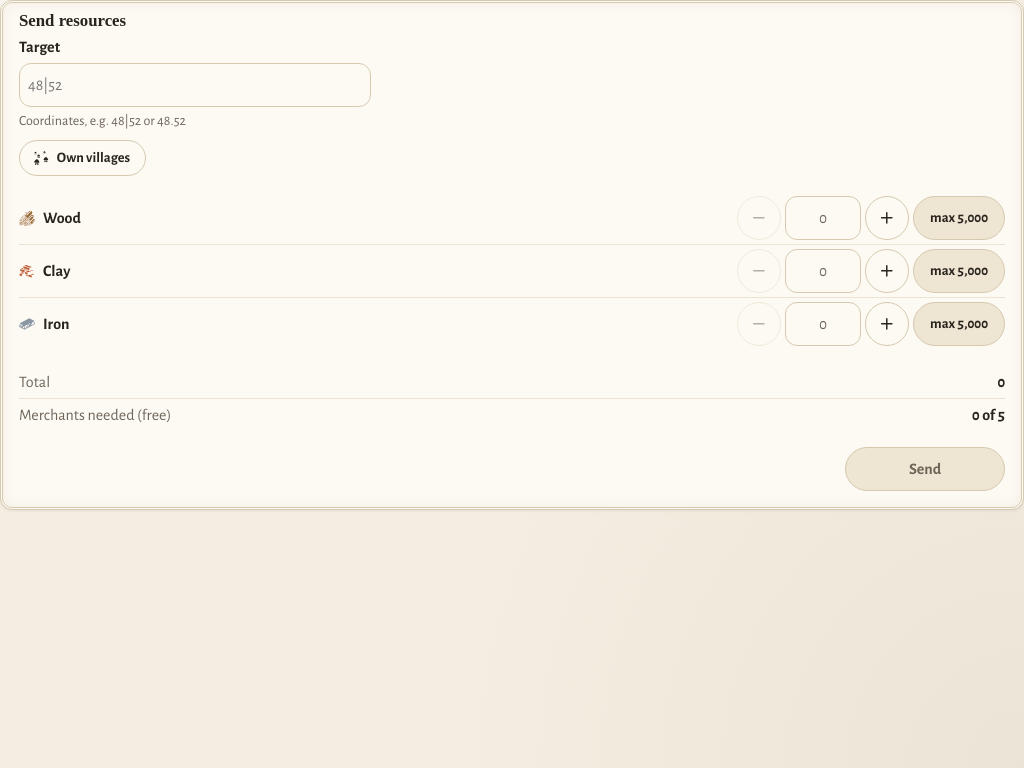
Scenario: SendResourcesCard › fills the target with an own village picked from the sheet, with its travel time
Click the button "Own villages": (82, 158) [19,140,146,176]
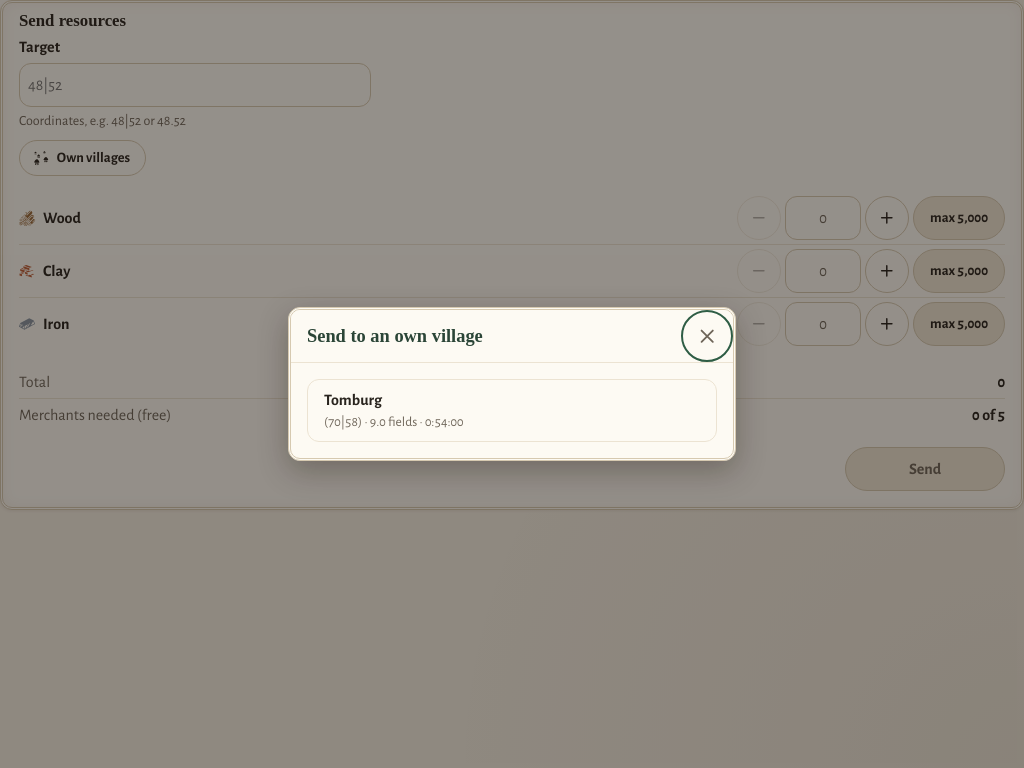
Click the button named "Tomburg(70|58) · 9.0 fields · 0:54:00": (353, 400) [307,379,717,442]
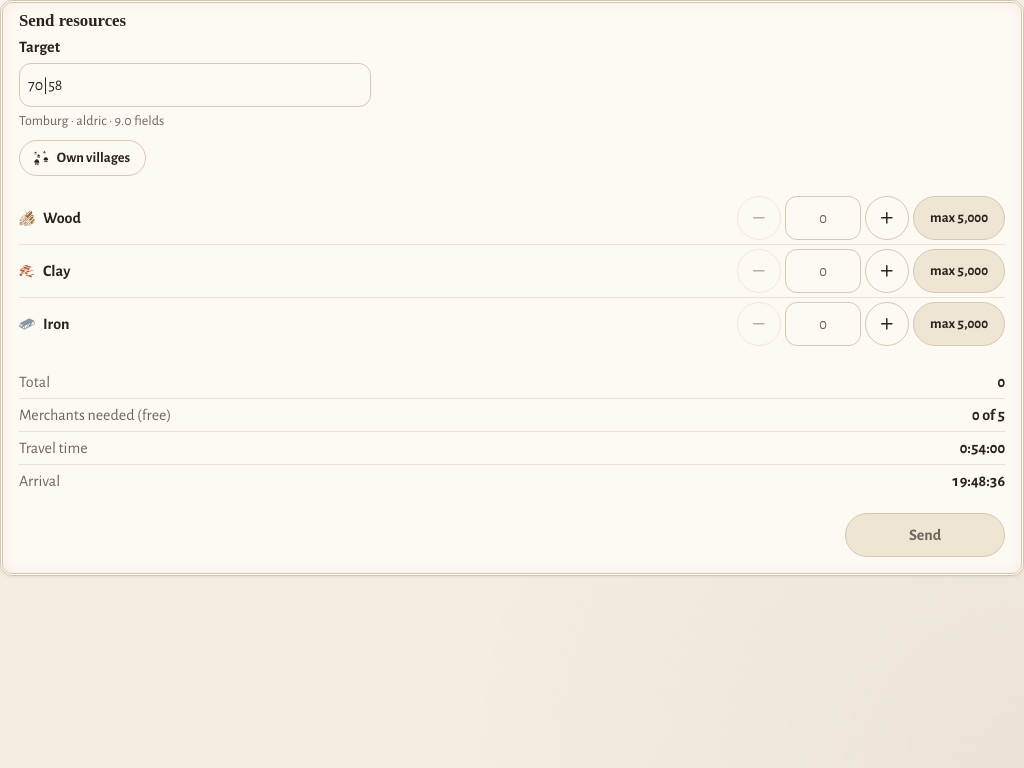
Now the text "0:54:00" is shown, box [960,436,1005,460]
Now the field labelled "Target" holds "70|58", box [19,63,371,107]
Now the text "Tomburg · aldric · 9.0 fields" is shown, box [19,114,164,128]
